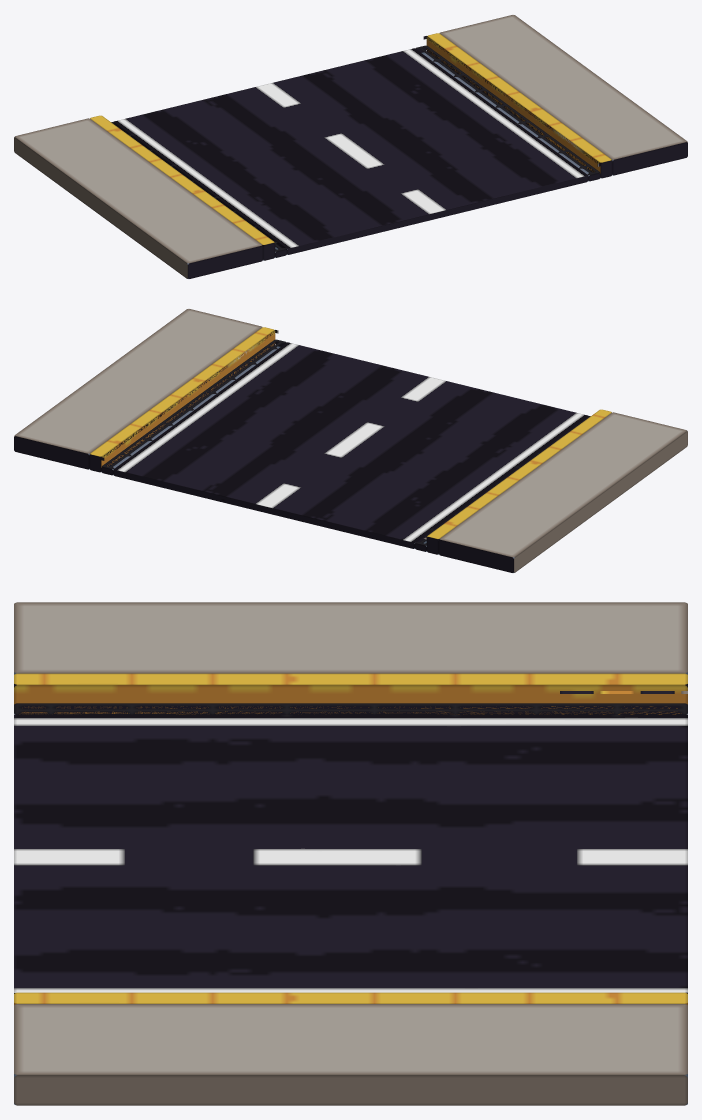
File: Road_Standard_Straight.obj
3 views of the same model, one above another, from view 1: azimuth 30°, elevation 25°; view 2: azimuth 150°, elevation 25°; view 3: azimuth 270°, elevation 25° (orthographic). The views are drawn at different scales.
Visible parts, largest first — view 1: cuboid; view 2: cuboid; view 3: cuboid.
Boxes of the visible parts, x1,y1,x2,y2 form: cuboid: [14, 15, 687, 278]; cuboid: [14, 309, 687, 572]; cuboid: [14, 602, 687, 1105].
Bounding box in the file's own units: 10.38 × 0.3125 × 6.25.
Materials: 1 (1 with a texture image).
